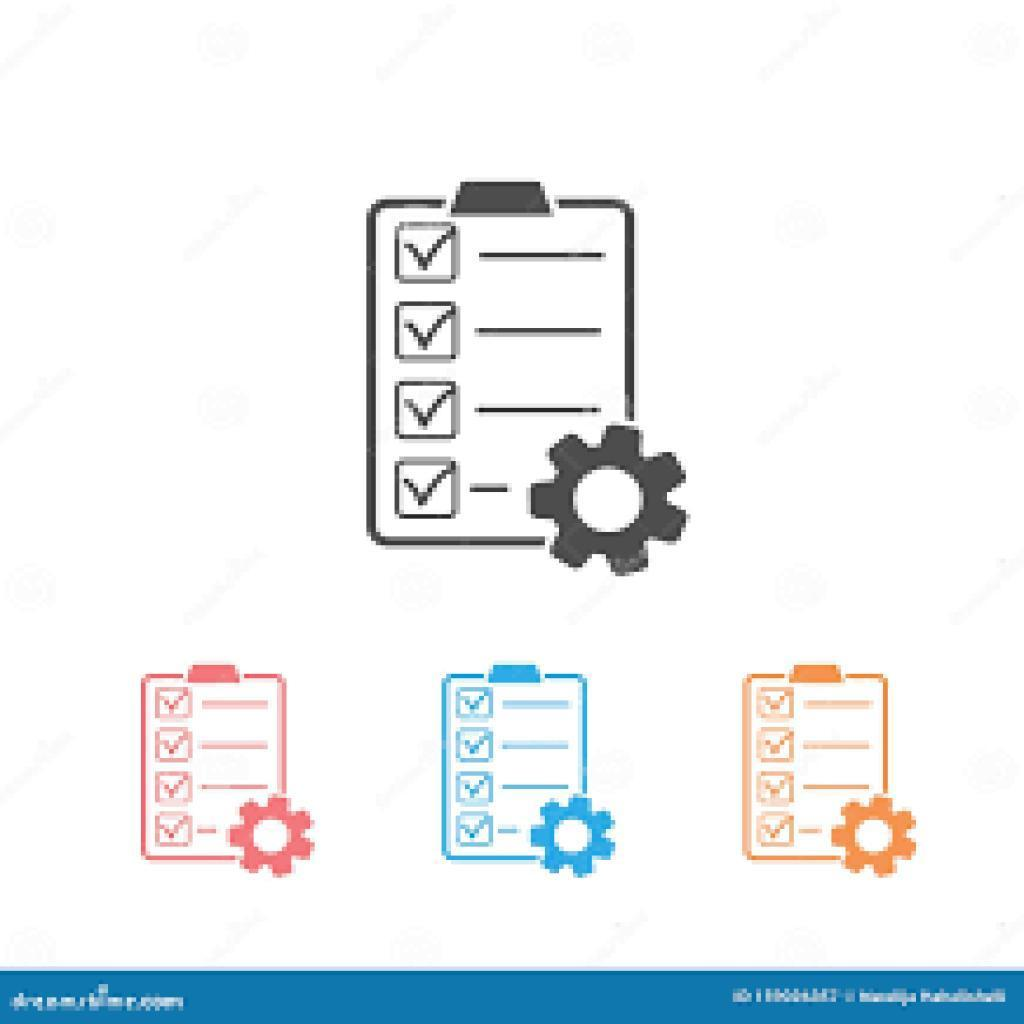checkbox: (394, 381, 461, 445), (394, 223, 462, 286), (396, 302, 463, 365), (396, 459, 460, 519), (155, 725, 194, 762), (755, 689, 798, 722), (758, 770, 796, 807), (755, 729, 796, 763), (757, 813, 798, 847), (457, 813, 496, 847), (454, 730, 495, 762), (155, 814, 192, 849), (457, 688, 493, 723), (155, 772, 191, 806), (157, 687, 192, 721), (457, 773, 495, 804)
